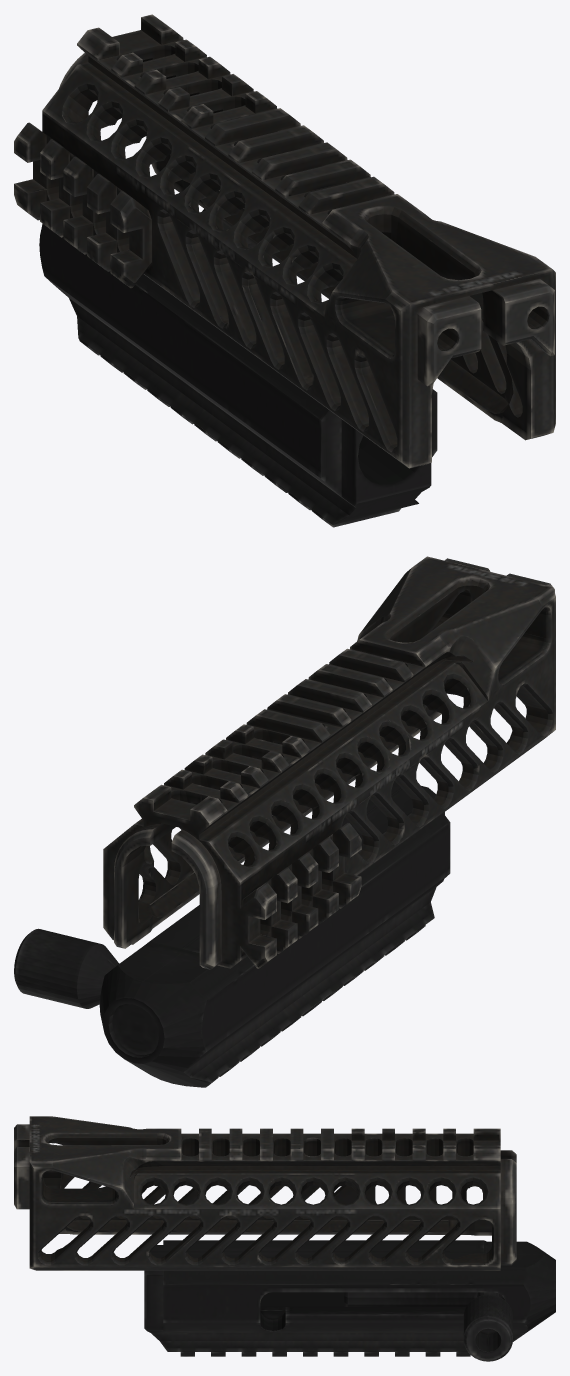
3 views of the same model, one above another, from view 1: azimuth 30°, elevation 25°; view 2: azimuth 150°, elevation 25°; view 3: azimuth 270°, elevation 25° (orthographic). The views are drawn at different scales.
Visible parts, largest first — view 1: TW_65ae4f57e343f0acc00824da_PZ_Import; view 2: TW_65ae4f57e343f0acc00824da_PZ_Import; view 3: TW_65ae4f57e343f0acc00824da_PZ_Import.
Boxes of the visible parts, x1,y1,x2,y2 form: TW_65ae4f57e343f0acc00824da_PZ_Import: [14, 14, 555, 527]; TW_65ae4f57e343f0acc00824da_PZ_Import: [14, 556, 555, 1087]; TW_65ae4f57e343f0acc00824da_PZ_Import: [14, 1116, 555, 1361].
Bounding box in the file's own units: 0.0395 × 0.1024 × 0.0431.
1 material, 1 textured.
